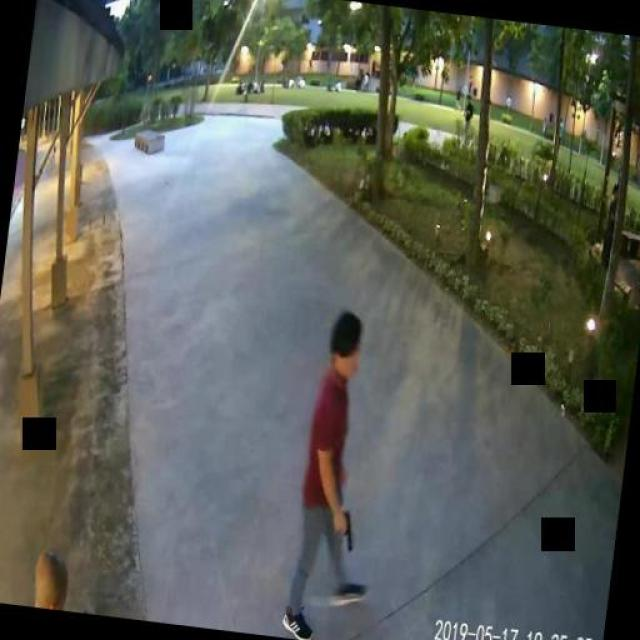gun: (333, 508, 355, 548)
